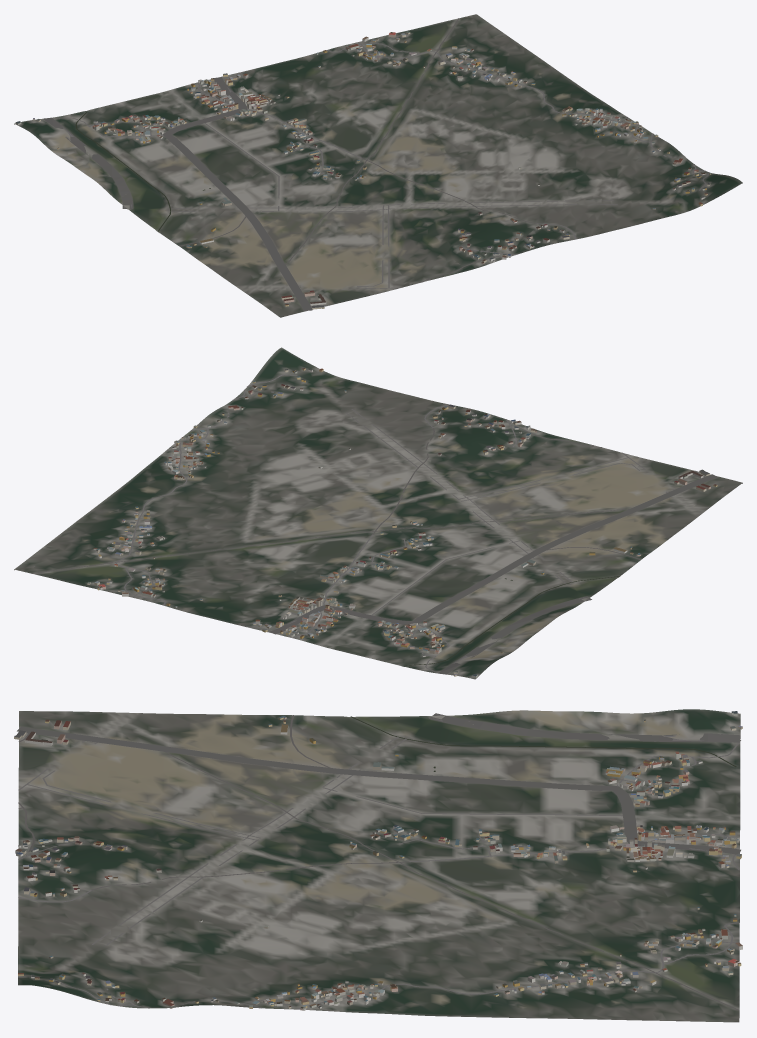
The picture shows the model from 3 angles, top to bottom: view 1: azimuth 30°, elevation 25°; view 2: azimuth 150°, elevation 25°; view 3: azimuth 270°, elevation 25°; orthographic projection. The views are drawn at different scales.
Visible parts, largest first — view 1: ground, buildings, roads; view 2: ground, buildings, roads; view 3: ground, buildings, roads, water.
Boxes of the visible parts, left/top/right/bottom form: ground: left=14, top=14, right=742, bottom=317; buildings: left=15, top=31, right=711, bottom=309; roads: left=43, top=18, right=709, bottom=310; ground: left=14, top=347, right=742, bottom=679; buildings: left=87, top=368, right=717, bottom=678; roads: left=31, top=374, right=717, bottom=674; ground: left=18, top=709, right=740, bottom=1022; buildings: left=14, top=711, right=742, bottom=1010; roads: left=17, top=713, right=740, bottom=1011; water: left=350, top=716, right=736, bottom=771.
Bounding box in the file's own units: 1415 × 87.3 × 1416.
